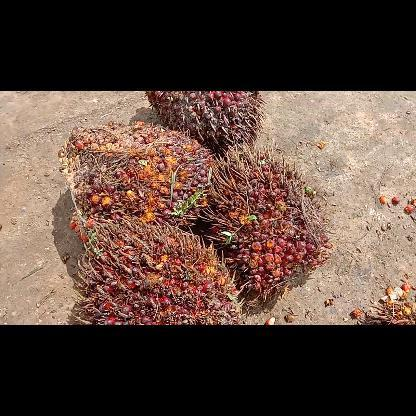TBS masak: (201, 141, 331, 299), (59, 121, 215, 242), (76, 218, 242, 324), (146, 91, 264, 149)
